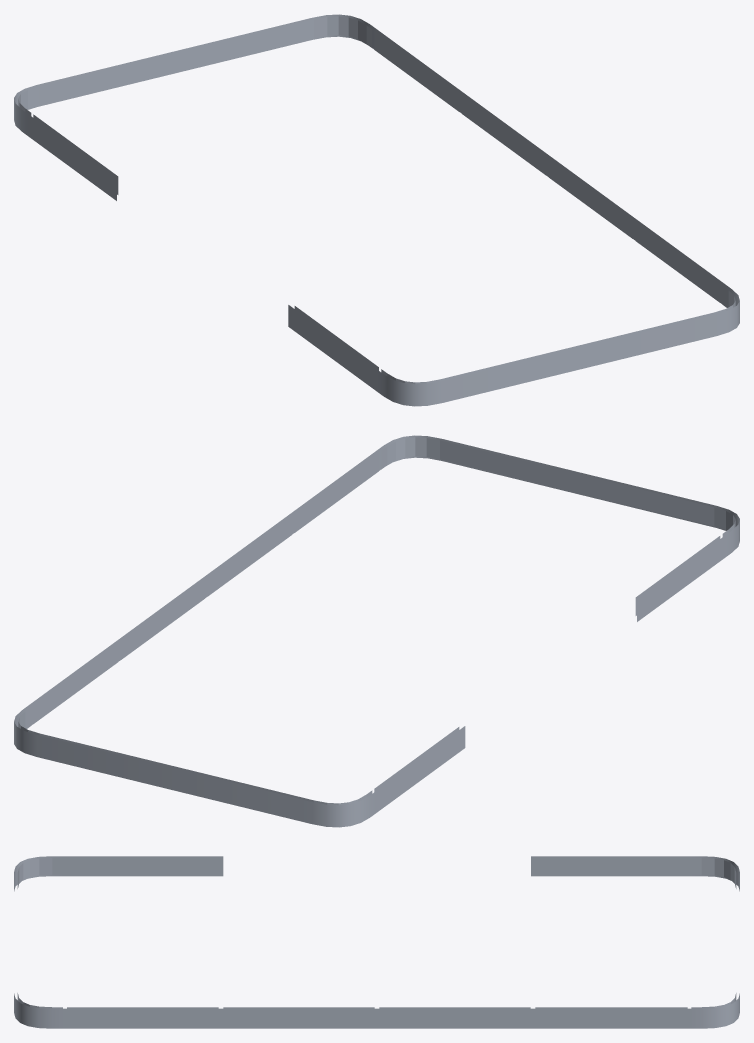
File: IceRinkBorder.FBX
3 views of the same model, one above another, from view 1: azimuth 30°, elevation 25°; view 2: azimuth 150°, elevation 25°; view 3: azimuth 270°, elevation 25° (orthographic). The views are drawn at different scales.
Parts seen in each view (by area): view 1: IceRinkBorder; view 2: IceRinkBorder; view 3: IceRinkBorder.
Boxes of the visible parts, x1=… form: IceRinkBorder: x1=14, y1=14, x2=739, y2=406; IceRinkBorder: x1=14, y1=435, x2=739, y2=827; IceRinkBorder: x1=14, y1=856, x2=739, y2=1028.
Size of the model in its own units: 26.17 by 1.6 by 52.64.
